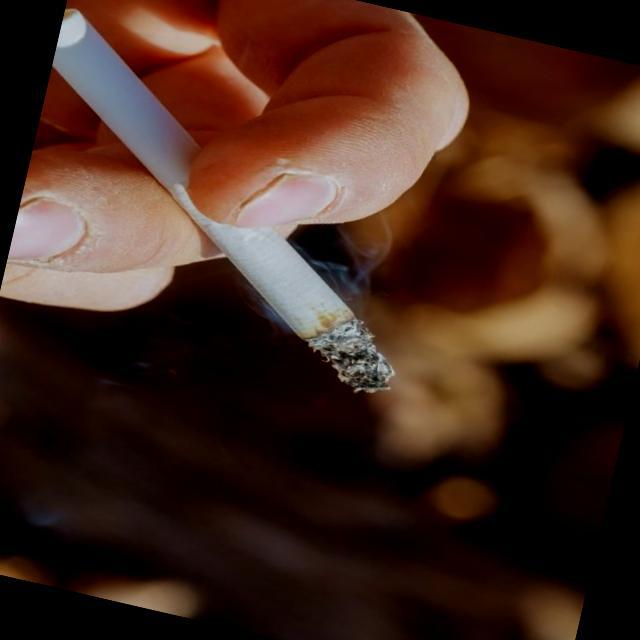cigarette: (192, 199, 440, 435)
